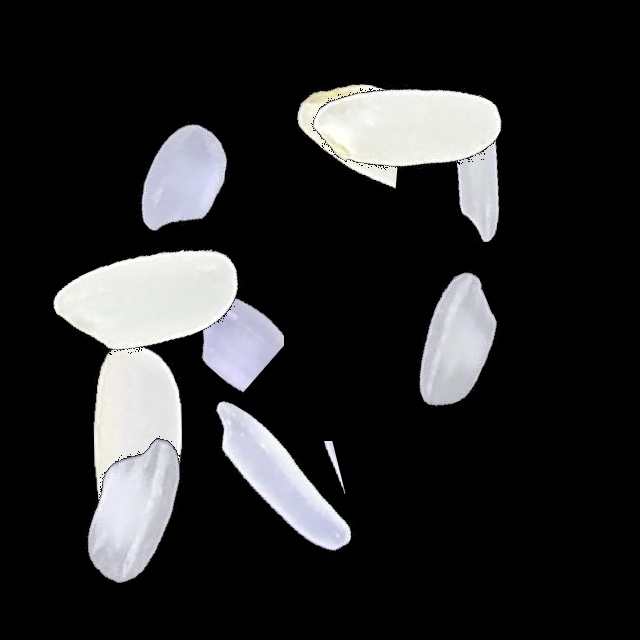Broken: (129, 191, 284, 441), (263, 10, 400, 260), (165, 441, 415, 547), (40, 322, 133, 572), (107, 497, 357, 584), (359, 125, 441, 375), (375, 274, 452, 524)
Full: (11, 315, 261, 565), (9, 383, 259, 633), (58, 56, 308, 306), (350, 41, 600, 291), (26, 174, 276, 424), (155, 351, 405, 601), (327, 214, 577, 464), (280, 0, 530, 250)
